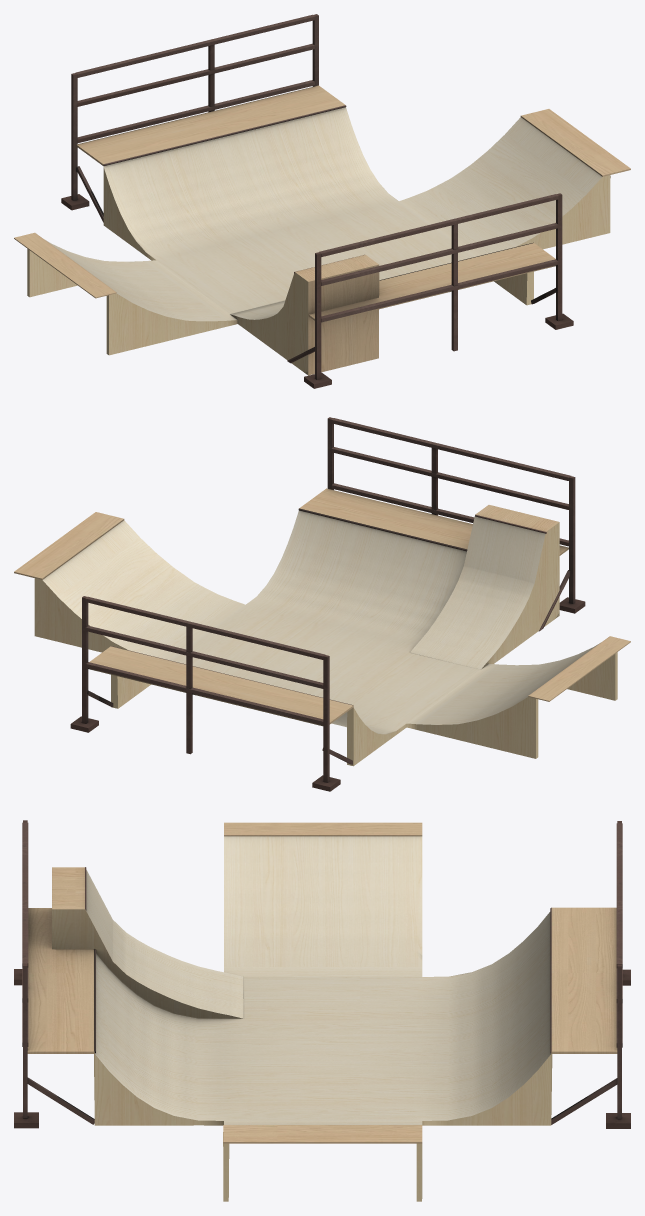
The model's file is Ramp01.fbx.
3 renders of one model, top to bottom at view 1: azimuth 30°, elevation 25°; view 2: azimuth 150°, elevation 25°; view 3: azimuth 270°, elevation 25°, orthographic. The views are drawn at different scales.
Visible parts, largest first — view 1: Ramp01; view 2: Ramp01; view 3: Ramp01.
Part boxes in pixels (<box>): Ramp01: <box>14,14,630,388</box>; Ramp01: <box>14,417,630,791</box>; Ramp01: <box>14,820,630,1201</box>.
Bounding box in the file's own units: 29.94 × 7.01 × 24.6.
